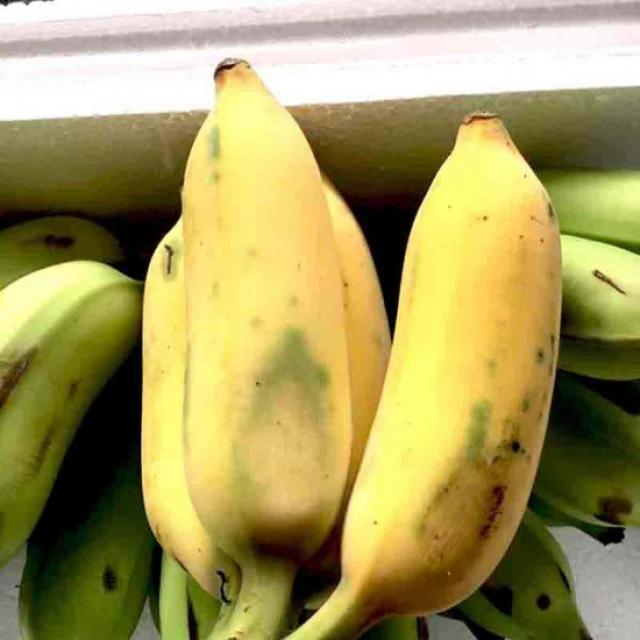Banana: (356, 73, 558, 627), (161, 36, 341, 562)
